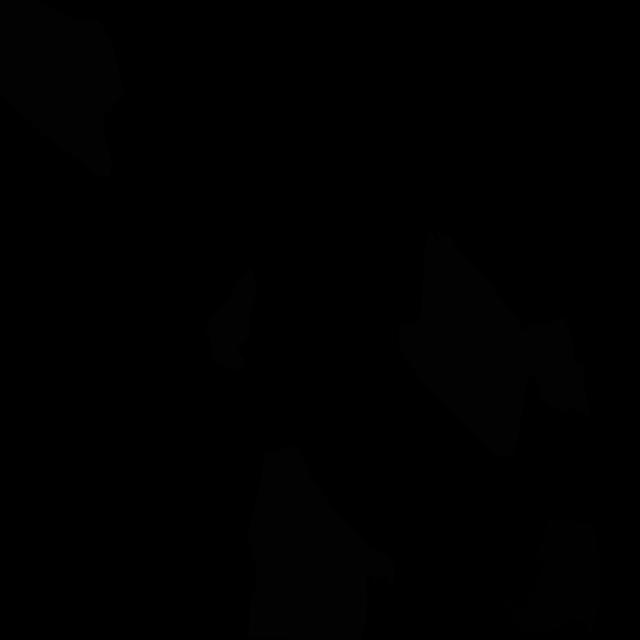cardboard: (398, 231, 533, 457), (248, 445, 396, 640), (0, 0, 124, 177), (524, 316, 590, 417), (204, 266, 256, 371)
rigid_plastic: (506, 512, 602, 640)
